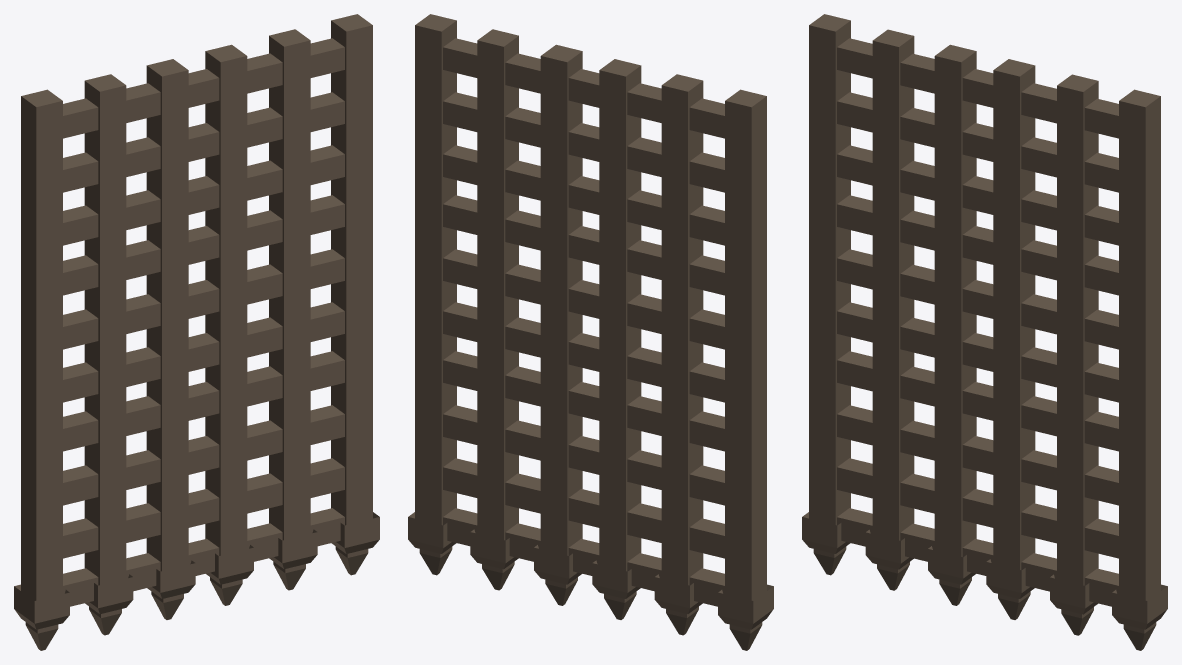
The model's file is Raven_Door.fbx.
3 renders of one model, left to right at view 1: azimuth 30°, elevation 25°; view 2: azimuth 150°, elevation 25°; view 3: azimuth 330°, elevation 25°, orthographic.
Visible parts, largest first — view 1: Cube.002; view 2: Cube.002; view 3: Cube.002.
Part boxes in pixels (left/top/right/bottom): Cube.002: left=14, top=14, right=379, bottom=650; Cube.002: left=408, top=14, right=773, bottom=650; Cube.002: left=802, top=14, right=1167, bottom=650.
Bounding box in the file's own units: 888 × 1353 × 90.77.
